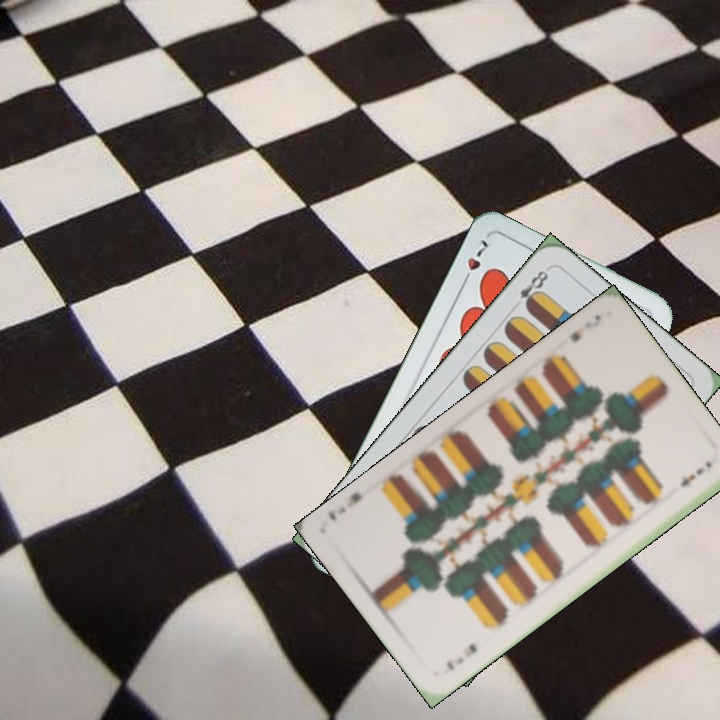E7: (565, 310, 604, 345), (442, 639, 480, 673)
E8: (508, 264, 552, 312)
H7: (457, 235, 491, 289)
